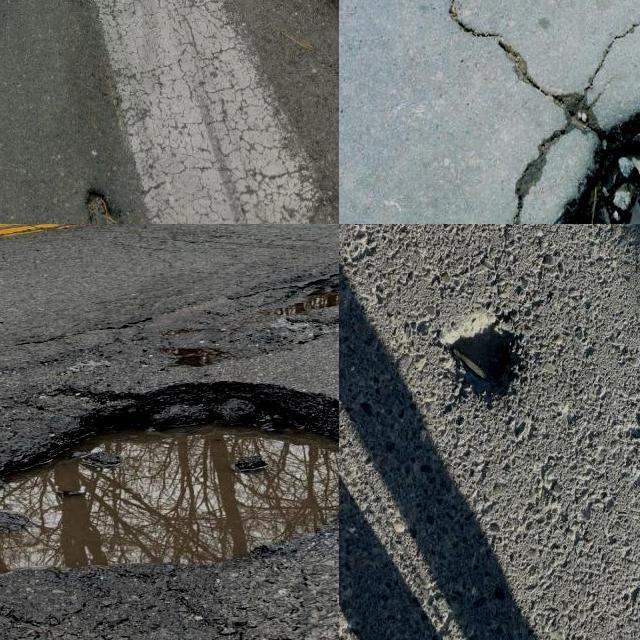Pothole: (0, 384, 339, 576), (163, 276, 339, 366), (443, 313, 519, 394), (87, 189, 122, 224)
